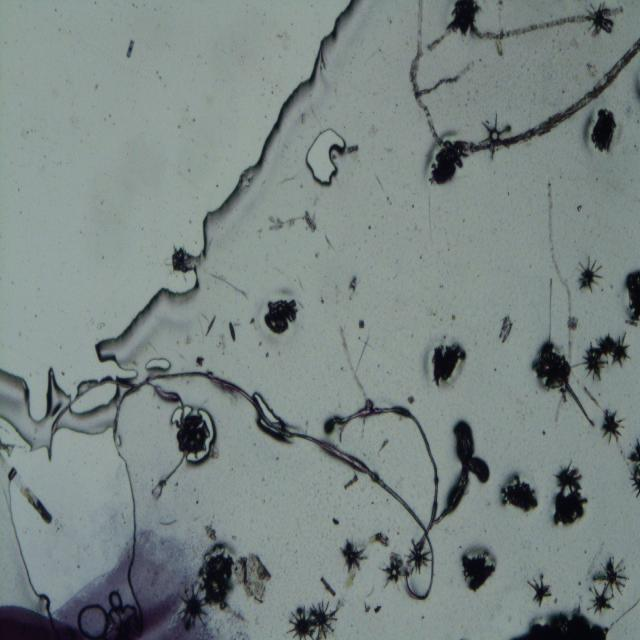Air bubble: (93, 4, 359, 364), (104, 436, 151, 624), (6, 498, 56, 614), (0, 360, 44, 452), (305, 126, 347, 188), (65, 406, 115, 438)
Background material: (203, 544, 273, 606), (503, 614, 612, 637), (267, 204, 323, 241), (458, 544, 499, 594), (429, 138, 471, 186), (498, 469, 540, 515), (262, 293, 302, 338), (175, 418, 217, 460), (431, 340, 466, 390), (590, 102, 620, 153), (551, 491, 589, 529), (620, 263, 640, 328), (601, 407, 627, 448), (609, 332, 633, 370), (627, 436, 640, 498), (338, 266, 359, 296), (497, 314, 514, 344)
Cellulose filter fibre: (114, 361, 488, 601), (411, 4, 640, 154), (425, 6, 627, 54), (543, 180, 573, 423), (332, 284, 372, 407), (0, 447, 56, 528)
Diatom: (473, 112, 513, 160), (176, 582, 210, 632), (595, 555, 629, 600), (309, 600, 346, 636), (379, 552, 408, 596), (526, 569, 552, 613), (576, 256, 604, 294), (580, 344, 608, 382), (586, 2, 614, 40), (339, 537, 368, 572), (586, 584, 616, 617), (284, 605, 312, 639), (555, 459, 581, 495), (408, 538, 432, 576), (596, 332, 619, 358), (203, 311, 219, 338), (224, 321, 238, 341), (125, 37, 137, 59)
Microfibre: (46, 376, 188, 494)
Pen: (0, 527, 235, 638)
